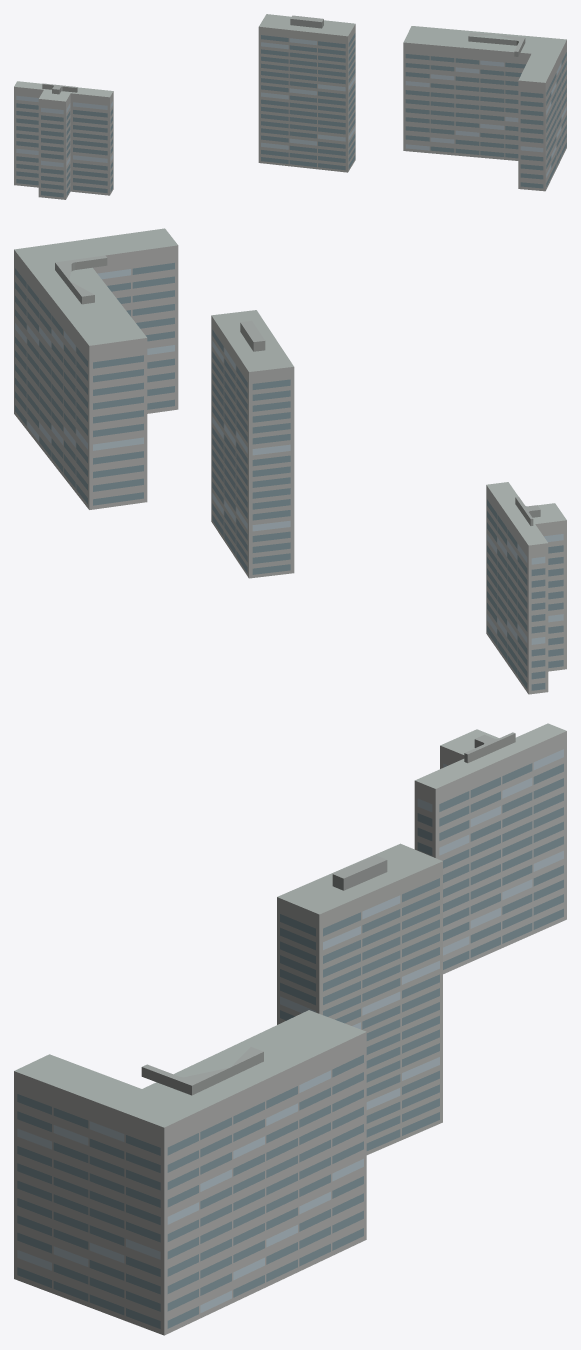
File: apt-a15609008.glb
The picture shows the model from 3 angles, top to bottom: view 1: azimuth 30°, elevation 25°; view 2: azimuth 150°, elevation 25°; view 3: azimuth 270°, elevation 25°; orthographic projection. The views are drawn at different scales.
Parts seen in each view (by area): view 1: apt-a15609008; view 2: apt-a15609008; view 3: apt-a15609008.
Part boxes in pixels (<box>): apt-a15609008: <box>14,14,566,199</box>; apt-a15609008: <box>14,228,566,694</box>; apt-a15609008: <box>14,723,566,1335</box>.
Size of the model in its own units: 179 by 54 by 98.97.
